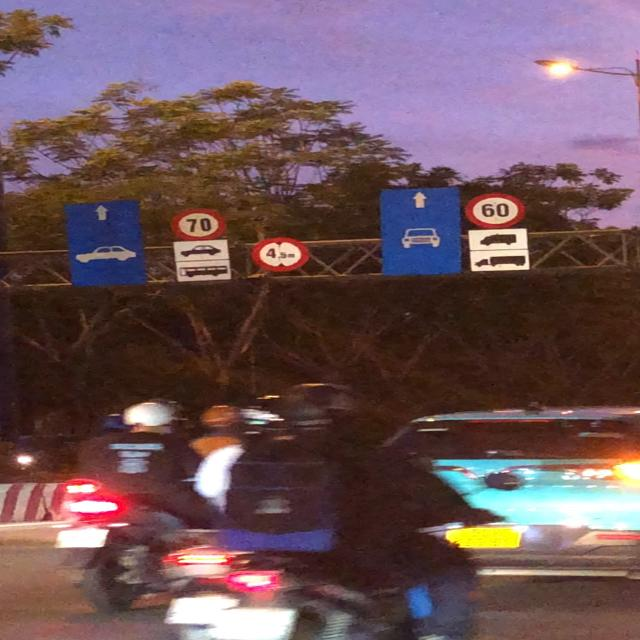Bien bao han che chieu cao: (246, 235, 316, 275)
Bien bao toc do toi da cho phep: (458, 191, 536, 230), (169, 208, 231, 242)
